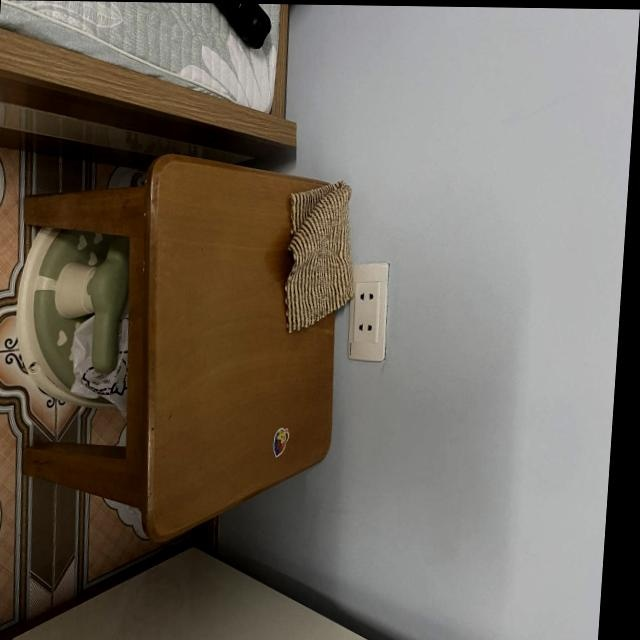outlet: (344, 261, 391, 362)
